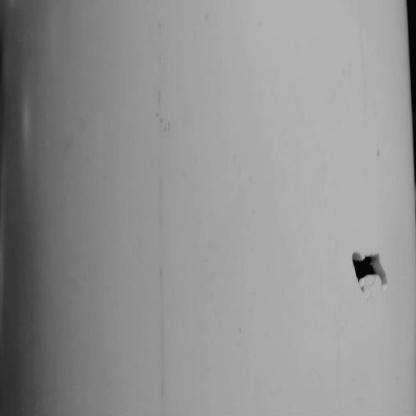kongdong: (345, 245, 395, 291)
